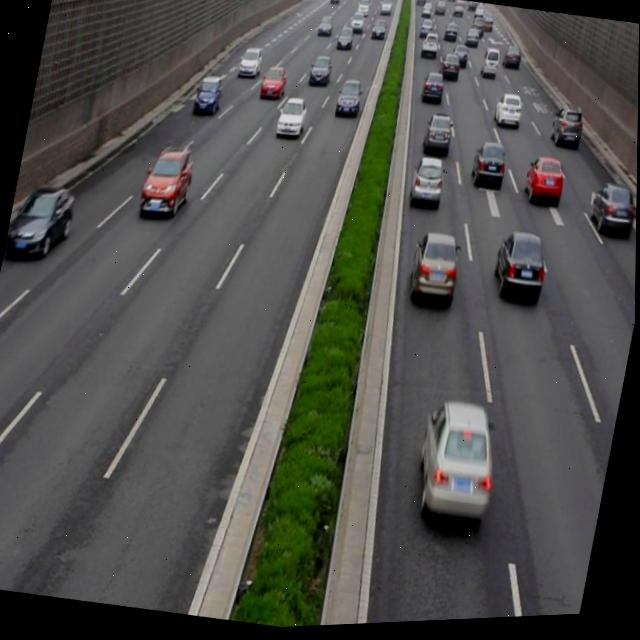car: (410, 395, 505, 531), (5, 177, 78, 268), (137, 142, 197, 225), (489, 229, 552, 308), (405, 231, 463, 308), (586, 182, 638, 245), (519, 155, 566, 215), (468, 141, 510, 197), (408, 157, 448, 210), (547, 106, 585, 155), (420, 113, 456, 162), (273, 95, 309, 144), (192, 74, 225, 120), (334, 78, 364, 122), (492, 94, 524, 135), (258, 64, 289, 106), (306, 53, 334, 92), (419, 72, 446, 110), (236, 46, 264, 82)
